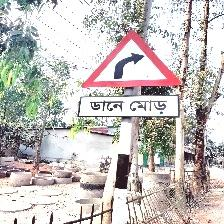Right-turn: (78, 29, 184, 121)
